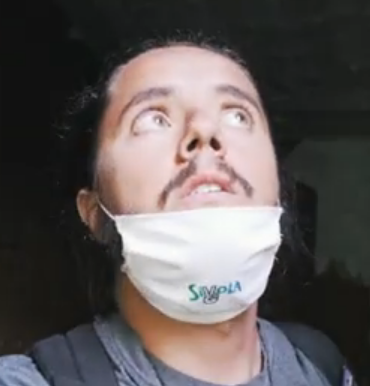with_incorrect_mask: (75, 33, 291, 320)
